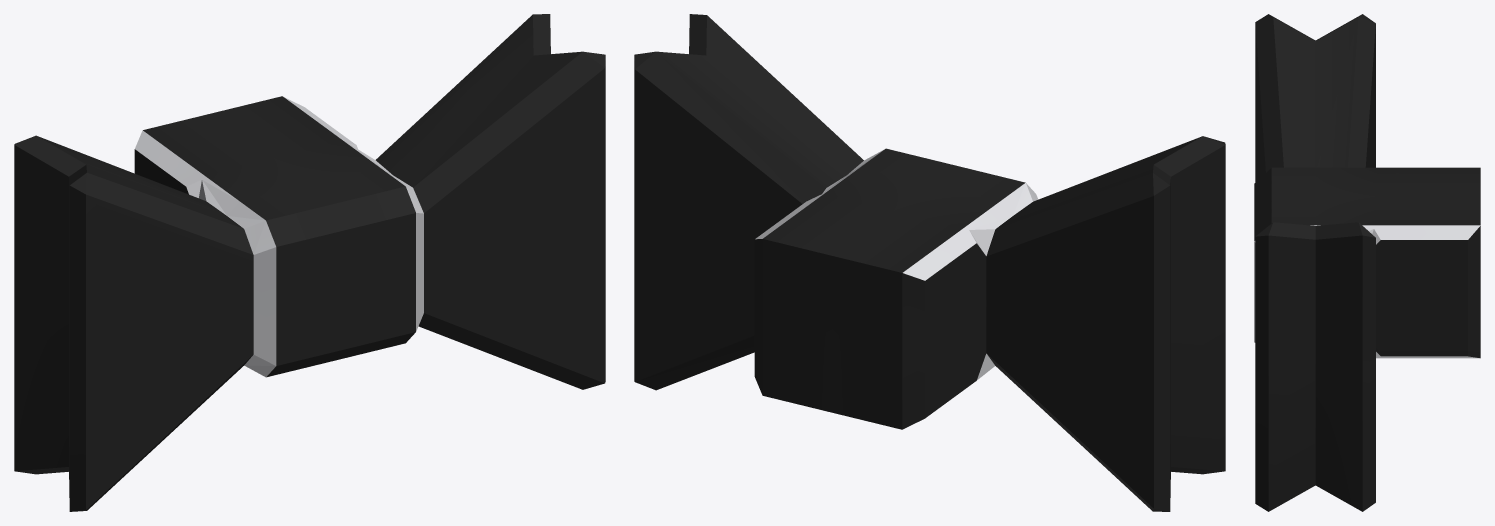
The model's file is Bow Tie.fbx.
3 views of the same model, side by side, from view 1: azimuth 30°, elevation 25°; view 2: azimuth 150°, elevation 25°; view 3: azimuth 270°, elevation 25° (orthographic). The views are drawn at different scales.
Parts seen in each view (by area): view 1: Cube; view 2: Cube; view 3: Cube.
Part boxes in pixels (x1,y1,x2,y2): Cube: (14,14,605,511); Cube: (634,14,1225,511); Cube: (1254,14,1480,511).
Size of the model in its own units: 8.42 by 5.09 by 3.64.
